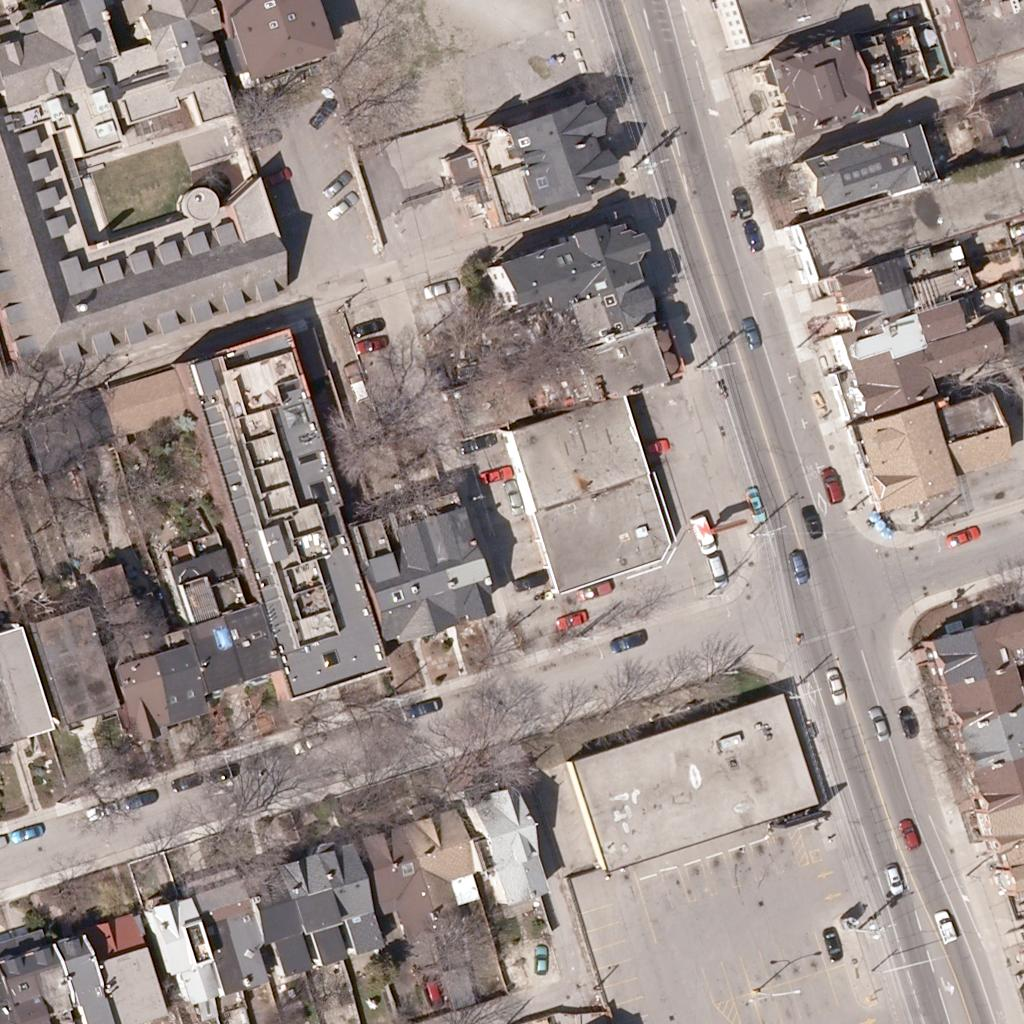car: (305, 99, 339, 133), (248, 122, 282, 156), (257, 160, 291, 194), (319, 169, 353, 203), (725, 187, 759, 221), (323, 189, 357, 223), (738, 220, 772, 254), (423, 270, 457, 304), (348, 309, 382, 343), (736, 318, 770, 352), (356, 328, 390, 362), (336, 363, 370, 397), (460, 424, 494, 458), (634, 430, 668, 464), (476, 456, 510, 490), (818, 471, 852, 505), (496, 482, 530, 516), (738, 486, 772, 520), (798, 504, 832, 538), (688, 518, 722, 552), (946, 519, 980, 553), (781, 548, 815, 582), (699, 551, 733, 585), (514, 563, 548, 597), (577, 574, 611, 608), (555, 601, 589, 635), (614, 623, 648, 657), (820, 668, 854, 702), (409, 690, 443, 724), (891, 705, 925, 739), (864, 707, 898, 741), (295, 724, 329, 758), (208, 755, 242, 789), (169, 763, 203, 797), (122, 781, 156, 815), (84, 795, 118, 829), (10, 813, 44, 847), (893, 818, 927, 852), (894, 818, 928, 852), (877, 859, 911, 893), (929, 910, 963, 944), (815, 925, 849, 959), (524, 945, 558, 979), (416, 975, 450, 1009), (883, 0, 917, 30), (1005, 209, 1024, 243)
